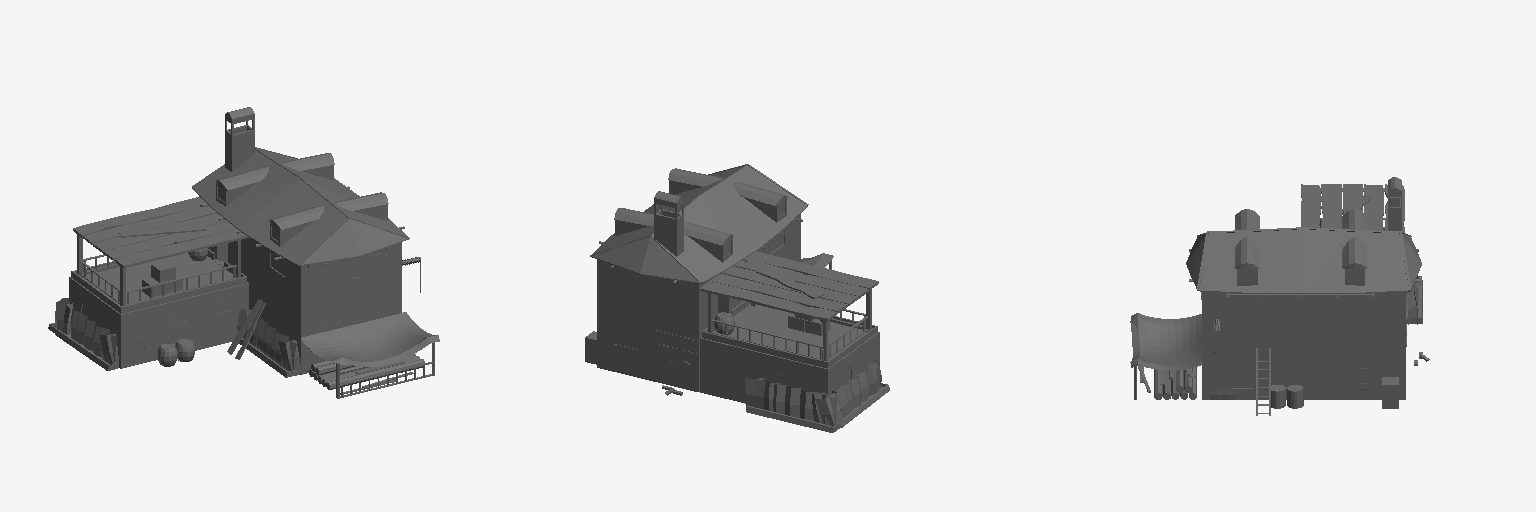
Rendered from house2.obj.
3 views of the same model, side by side, from view 1: azimuth 30°, elevation 25°; view 2: azimuth 150°, elevation 25°; view 3: azimuth 270°, elevation 25° (orthographic).
Parts seen in each view (by area): view 1: _Old_House, Plants_1_3; view 2: _Old_House, Plants_1_3; view 3: _Old_House.
Part boxes in pixels (x1,y1,x2,y2): _Old_House: (48, 107, 439, 398); Plants_1_3: (55, 298, 303, 373); _Old_House: (585, 164, 889, 432); Plants_1_3: (745, 358, 881, 426); _Old_House: (1130, 177, 1429, 415).
Bounding box in the file's own units: 3.9 × 2.52 × 3.63.